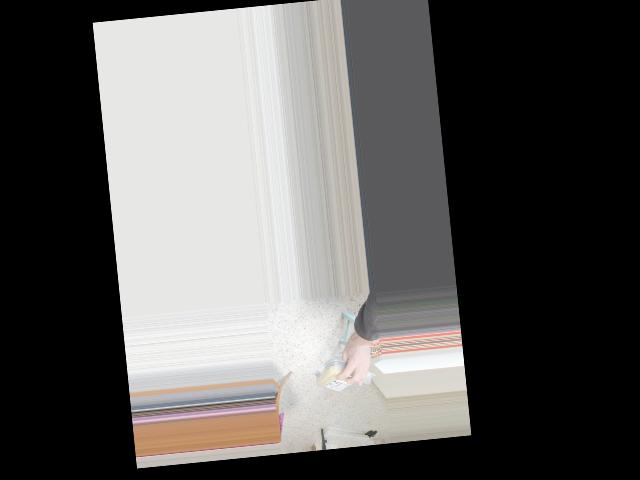cheese: (312, 361, 360, 394)
